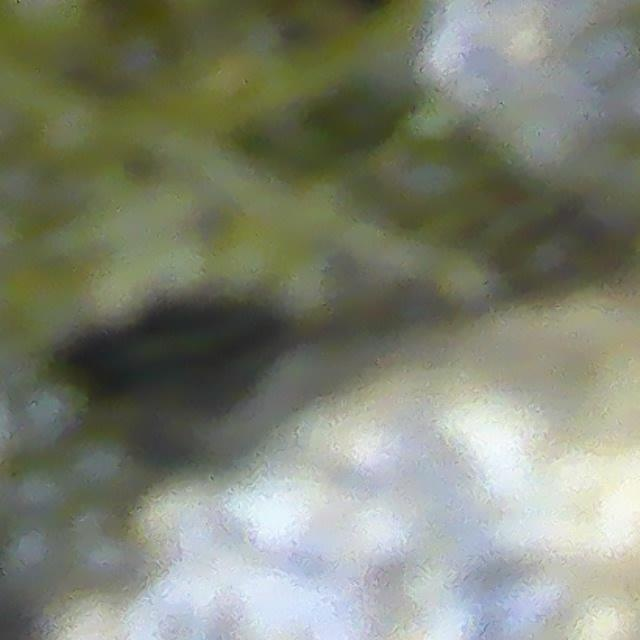SeaGrape: (0, 523, 67, 592)
